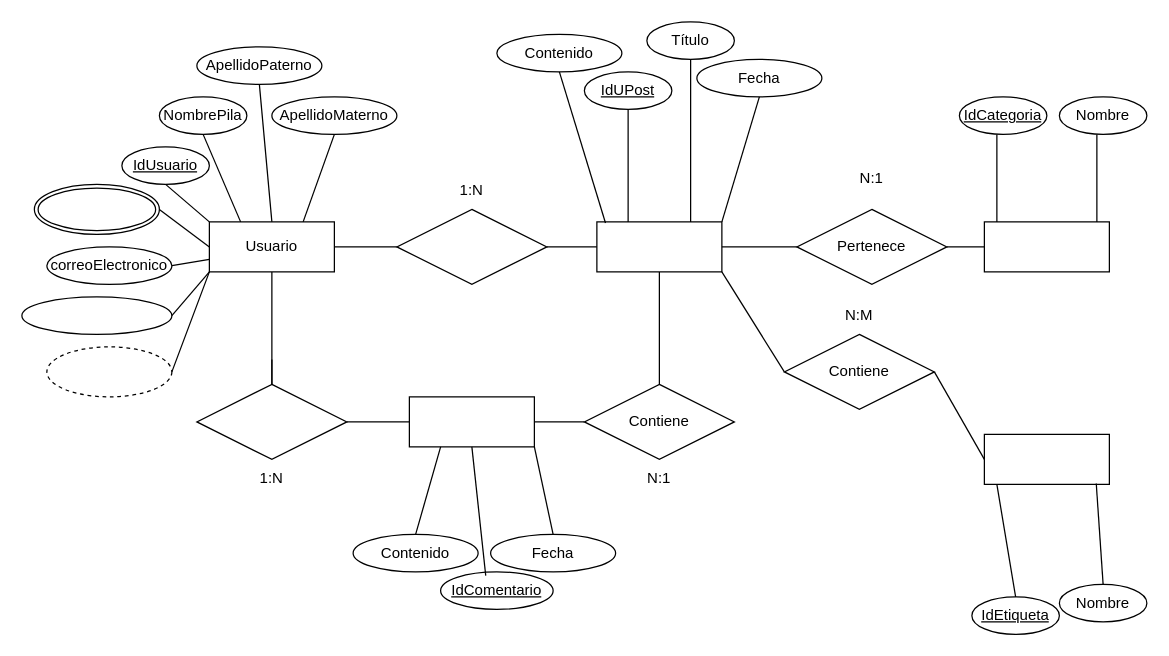
Some shapes in this 1169 by 656 pixel diagram are drawn without their labels. Here are the shapes that lost their labels. From the top down, the centre of each, then its label:
At (96,208): "Telefono".
At (471,246): "Publica".
At (659,246): "Post".
At (1046,246): "Categoria".
At (96,315): "fechaDeNacimiento".
At (109,371): "Edad".
At (271,421): "Escribe".
At (471,421): "Comentario".
At (1046,458): "Etiqueta".
